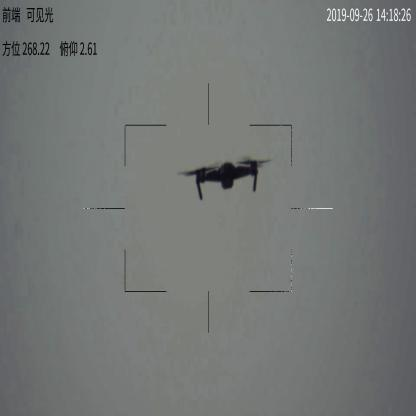uav: (176, 156, 272, 201)
